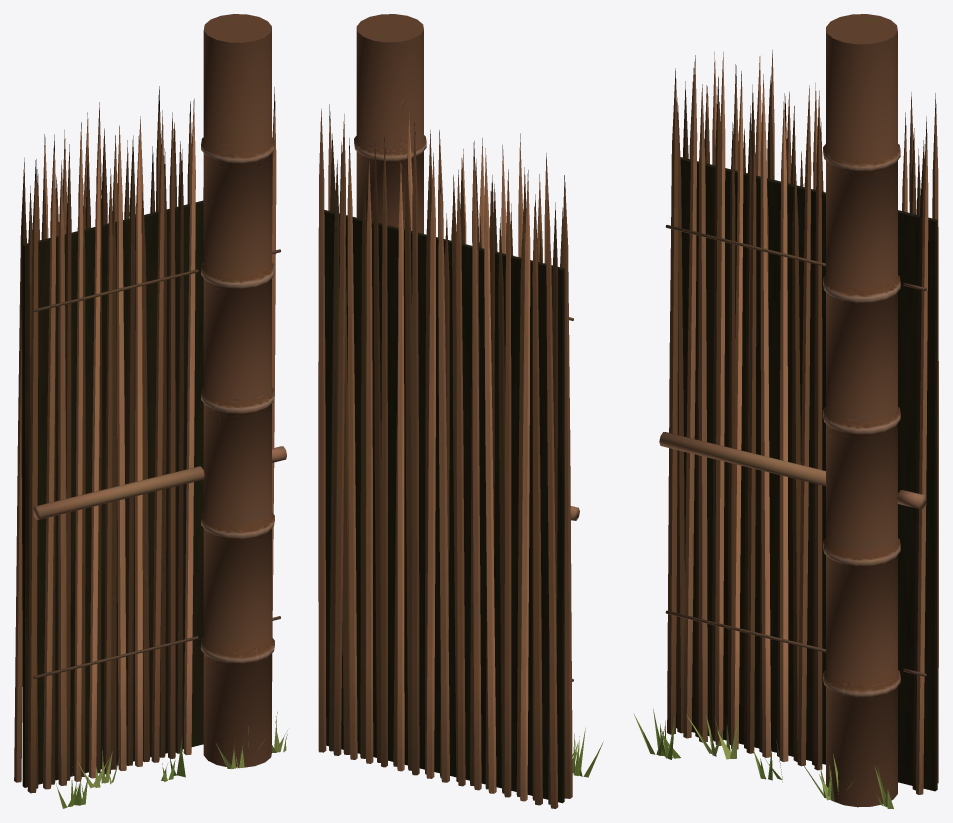
File: fence_reed_end_e_hd.glb
3 views of the same model, side by side, from view 1: azimuth 30°, elevation 25°; view 2: azimuth 150°, elevation 25°; view 3: azimuth 330°, elevation 25° (orthographic). The views are drawn at different scales.
Parts seen in each view (by area): view 1: fence_reed_end_e; view 2: fence_reed_end_e; view 3: fence_reed_end_e.
Part boxes in pixels (box(x1,y1,x2,y2)): fence_reed_end_e: box(14, 14, 287, 808); fence_reed_end_e: box(318, 14, 603, 808); fence_reed_end_e: box(633, 14, 938, 808).
Size of the model in its own units: 0.6344 by 1.74 by 0.2081.
1 material, 1 textured.
